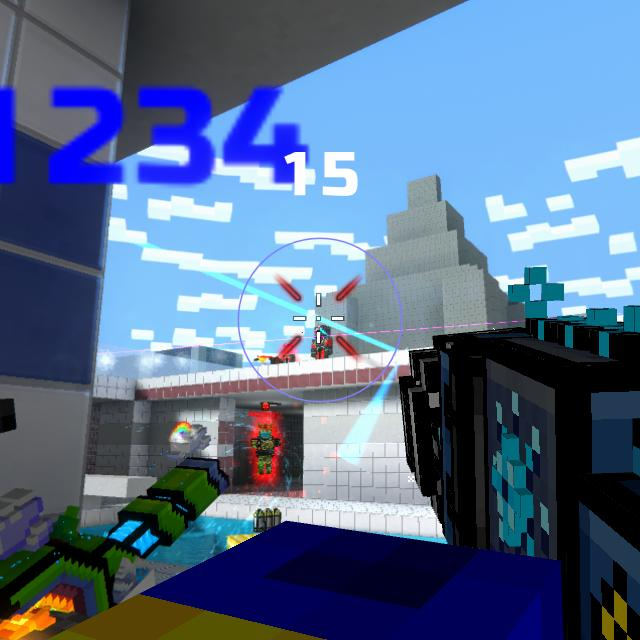Enemy: (249, 426, 281, 476)
